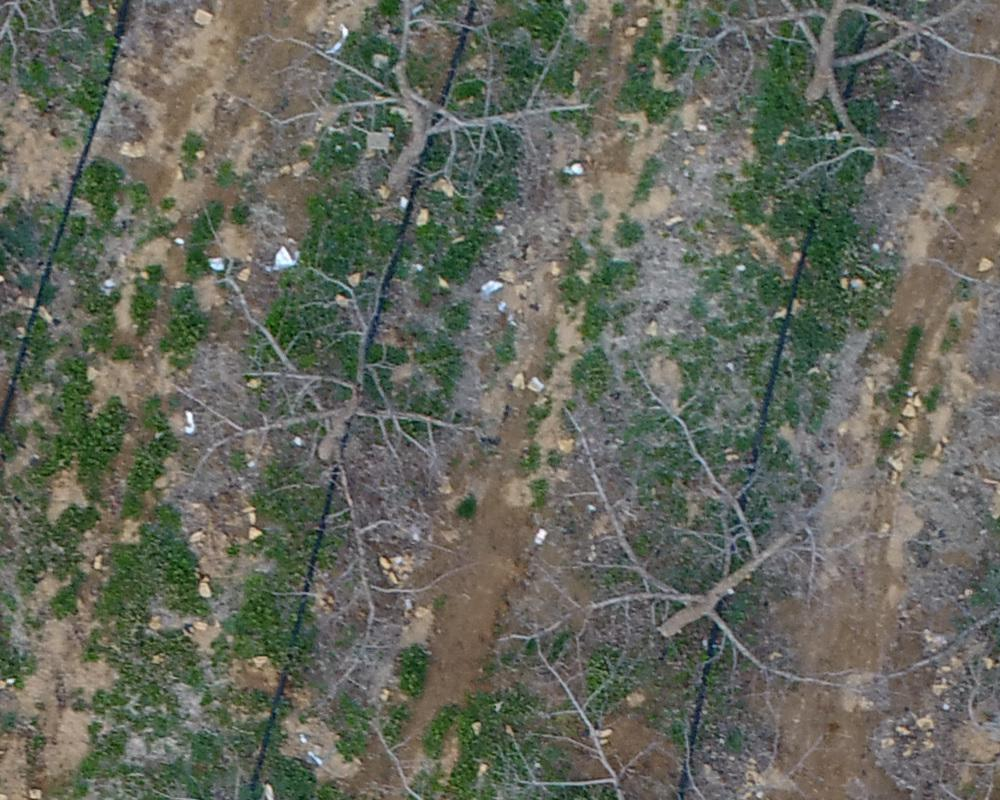apple: (547, 388, 946, 707), (199, 263, 479, 640), (272, 10, 591, 217)
